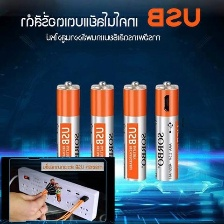battery: (52, 79, 82, 182), (153, 79, 181, 182), (121, 80, 149, 182), (88, 78, 115, 181)
